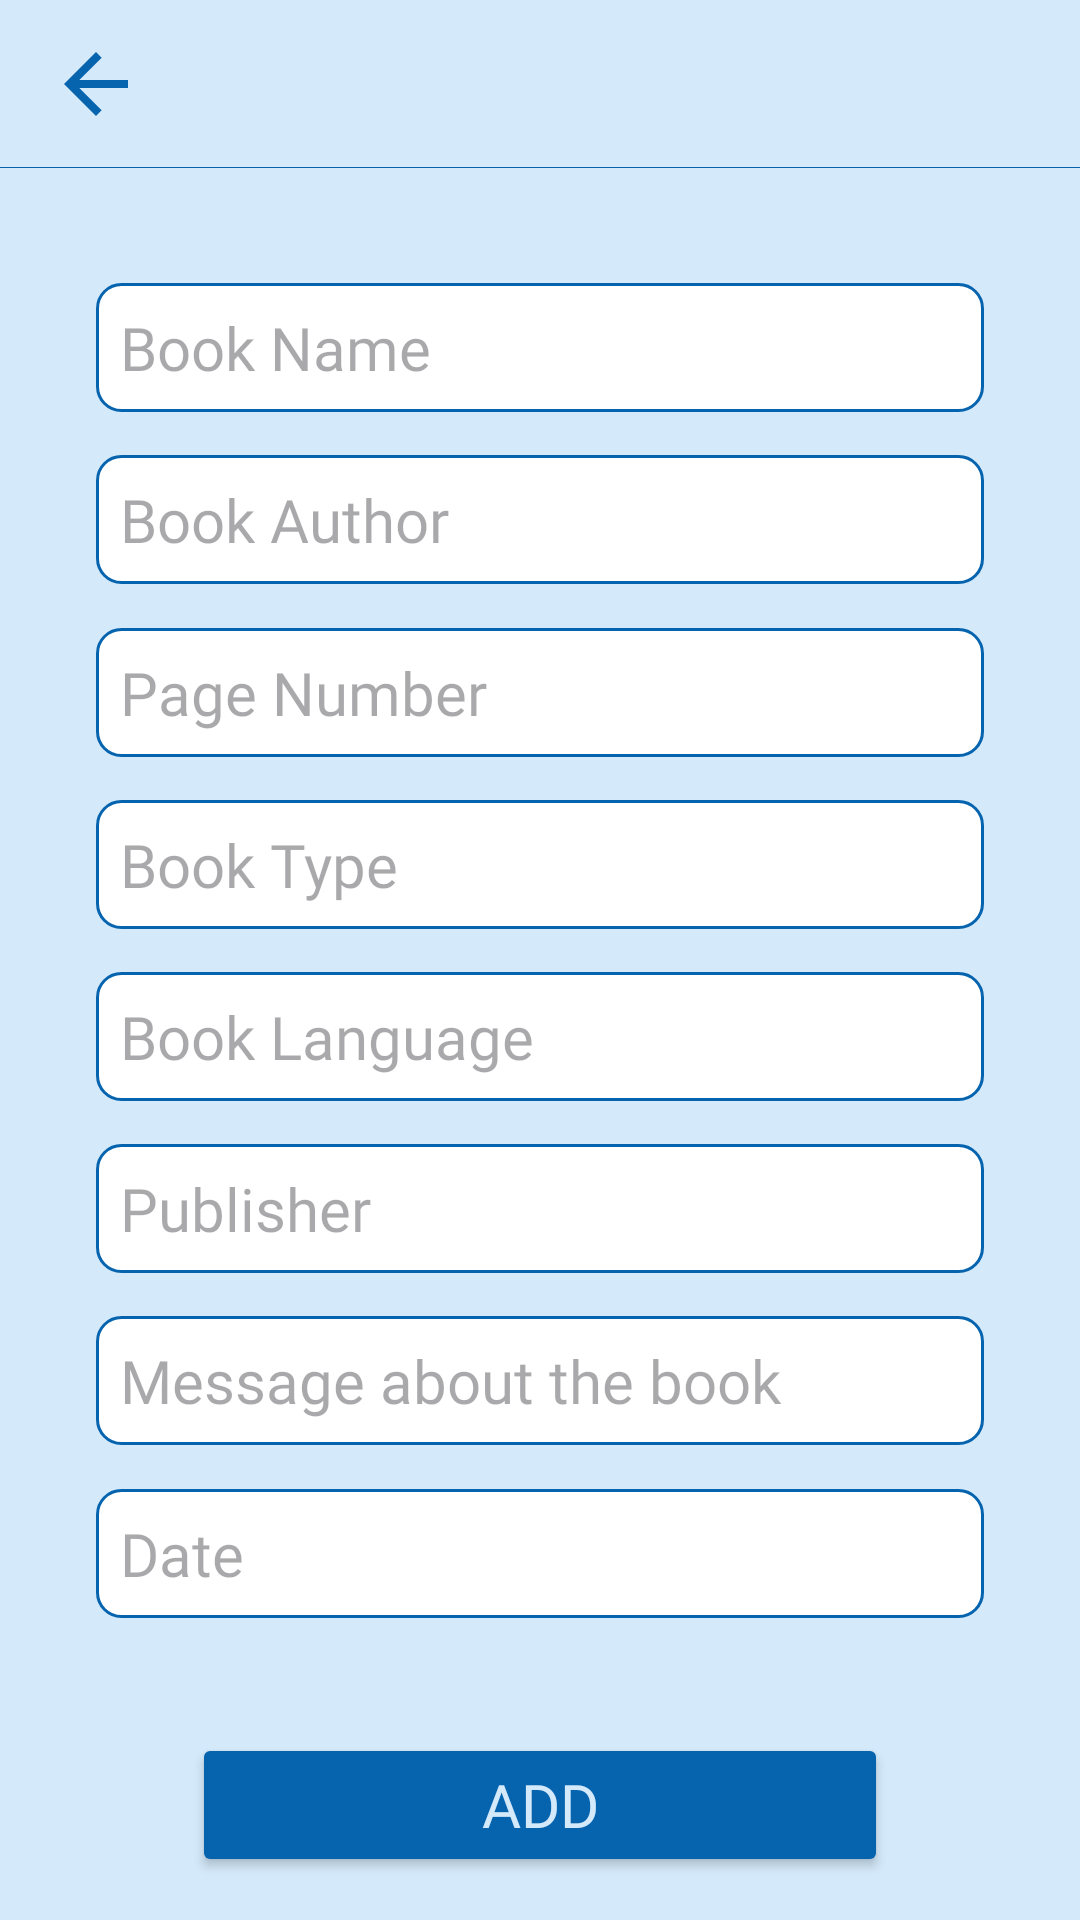

Screen size 1080w x 1920h. Icon name, then its box in pixels as (x1, y1, x2, y2):
arrow back: (64, 52, 128, 116)
